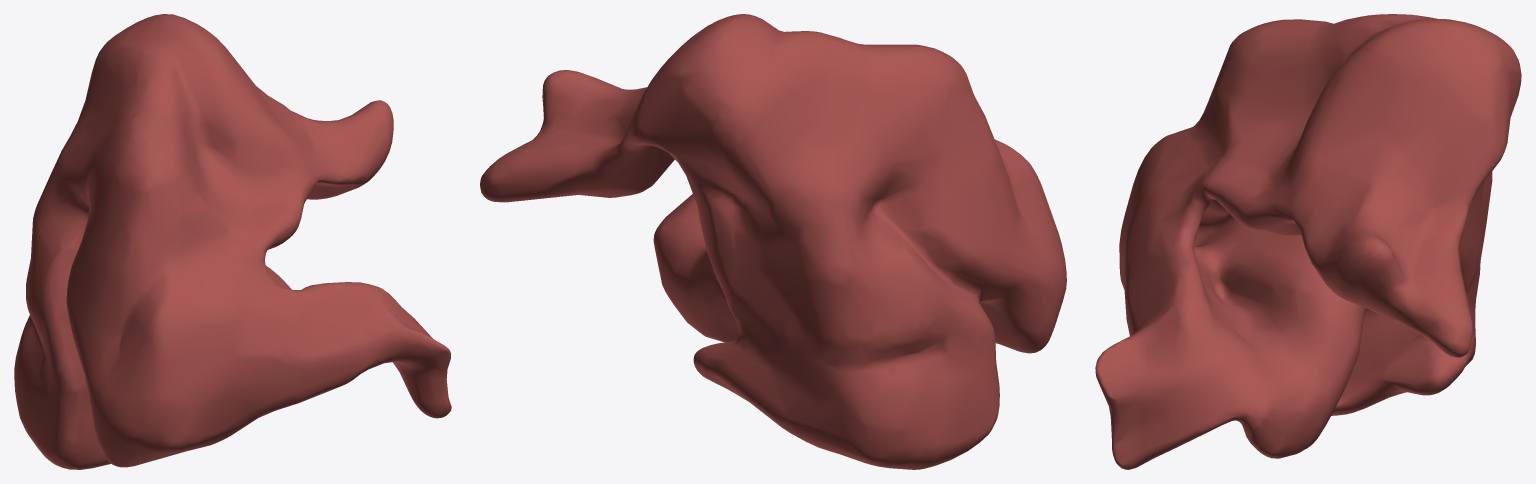
File: FMA72667.glb
The picture shows the model from 3 angles, left to right: view 1: azimuth 30°, elevation 25°; view 2: azimuth 150°, elevation 25°; view 3: azimuth 270°, elevation 25°; orthographic projection. The views are drawn at different scales.
Visible parts, largest first — view 1: FMA72667; view 2: FMA72667; view 3: FMA72667.
Part boxes in pixels (left/top/right/bottom): FMA72667: left=14, top=14, right=451, bottom=469; FMA72667: left=480, top=14, right=1066, bottom=469; FMA72667: left=1095, top=14, right=1521, bottom=469.
Size of the model in its own units: 0.0434 by 0.0396 by 0.0358.
